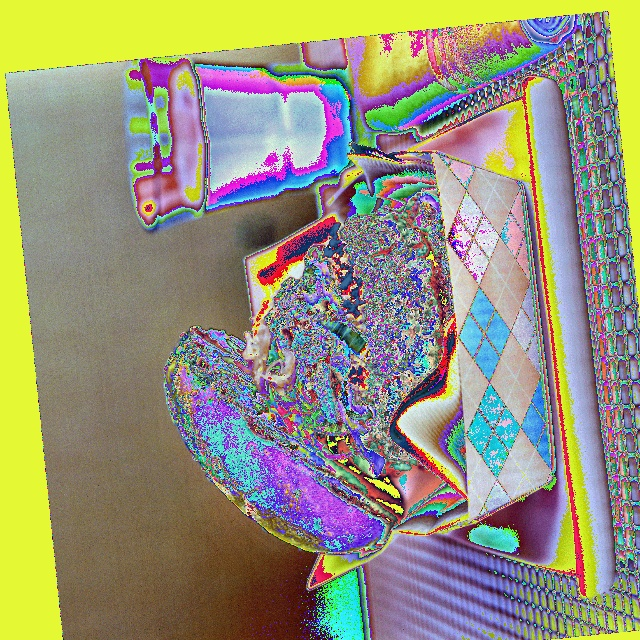background: (168, 189, 458, 554), (174, 62, 362, 216)
